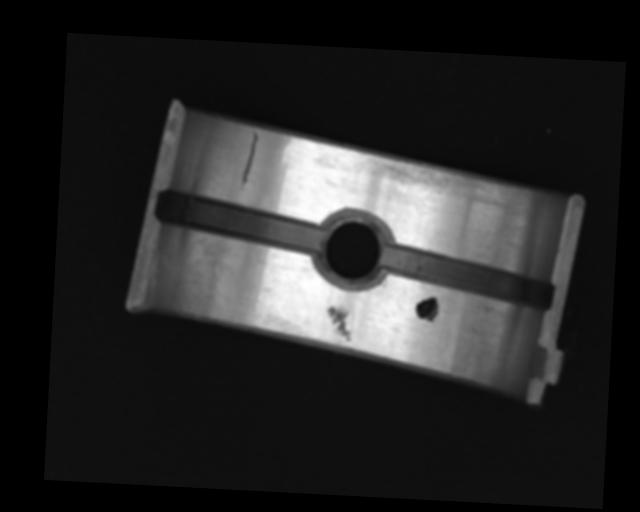blot: (414, 295, 439, 323)
bruise: (326, 305, 354, 342)
gap: (381, 242, 555, 310), (156, 189, 326, 253)
hole: (312, 209, 393, 289)
nick: (240, 127, 259, 193)
scratch: (357, 151, 519, 209)
